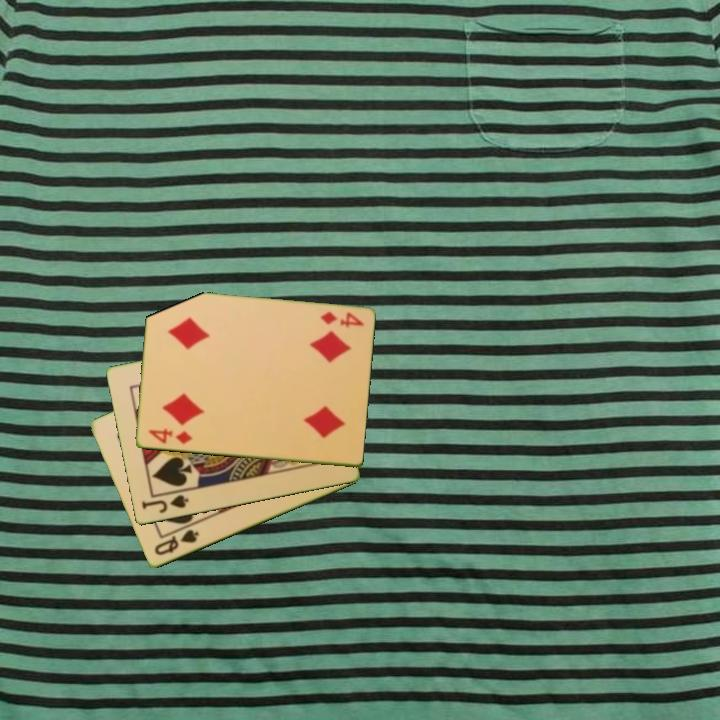4d: (145, 425, 195, 447), (317, 308, 367, 330)
Js: (138, 492, 191, 516)
Qs: (151, 526, 201, 559)
